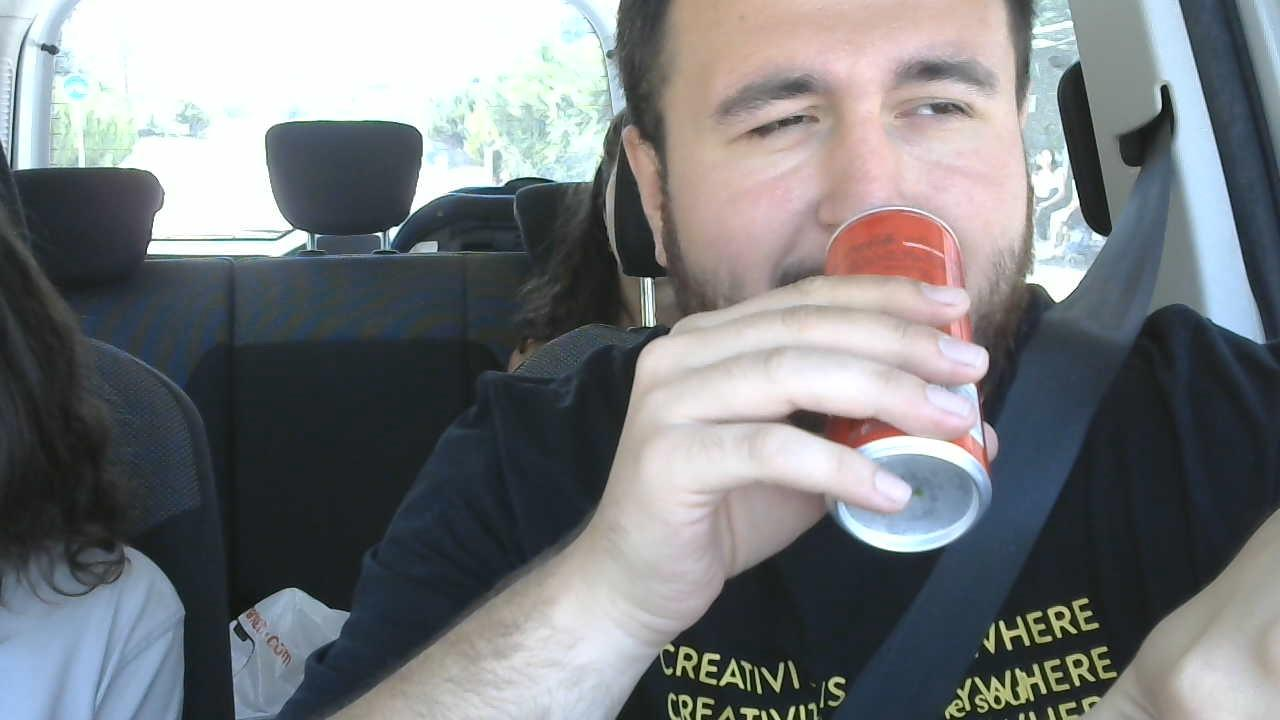Drinking: (820, 204, 1000, 555)
